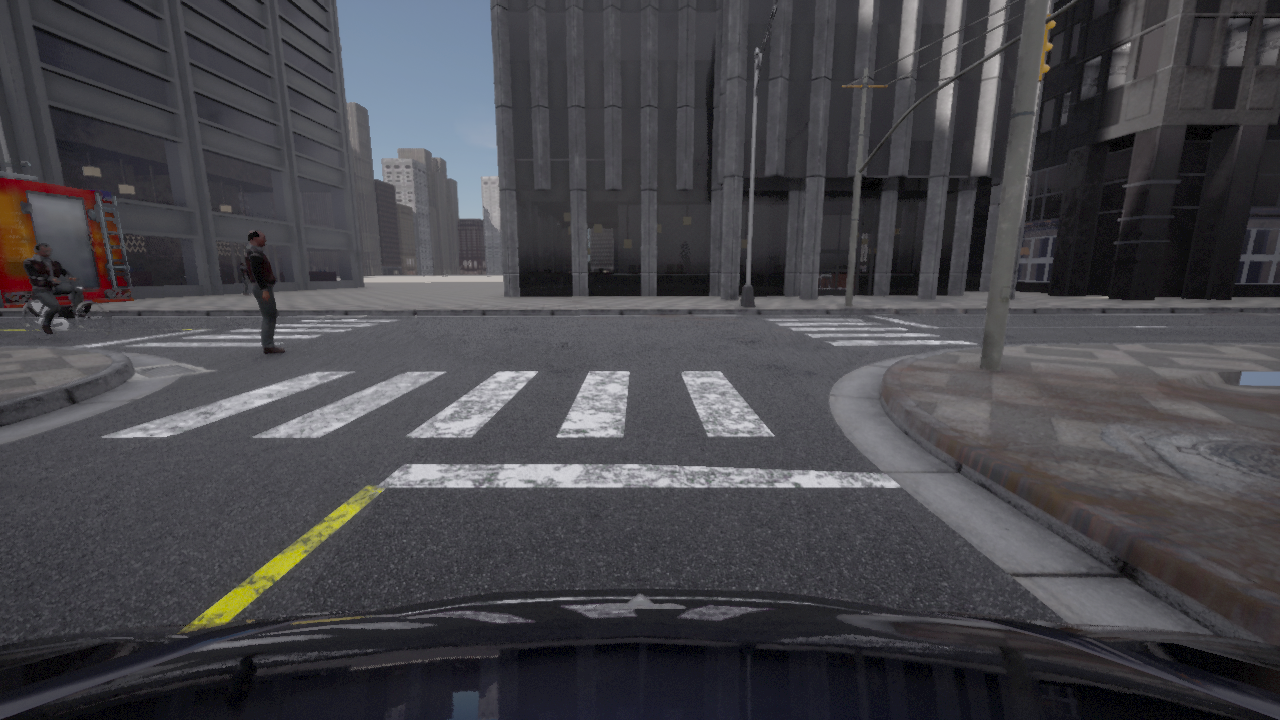cyclist: (0, 588, 1279, 719), (0, 157, 134, 318), (22, 279, 110, 339)
pedestrian: (244, 229, 285, 353), (239, 262, 250, 294)
